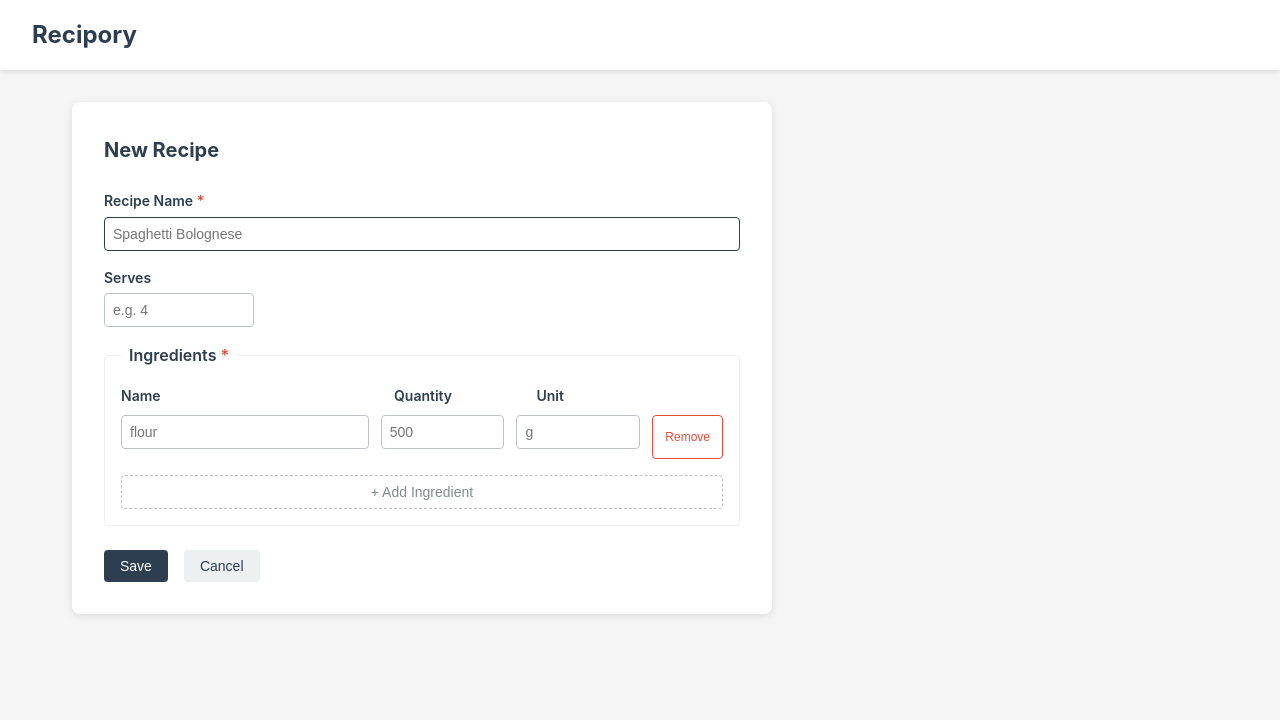
Scenario: App › Add Recipe › navigates back to library when clicking Cancel
This screenshot has width=1280, height=720.
Step 1. Click the button "Cancel" → (222,566), box x1=184 y1=550 x2=260 y2=582
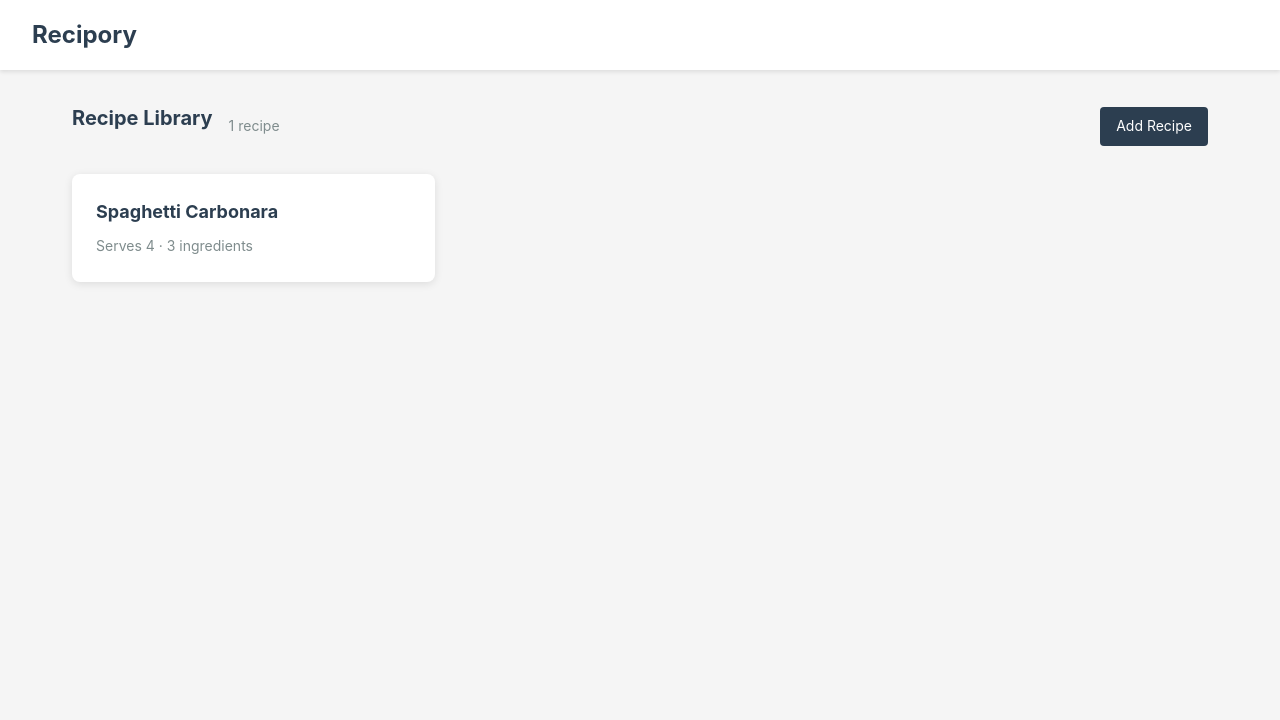
Check: the heading "Spaghetti Carbonara" is shown, box x1=96 y1=201 x2=278 y2=222
